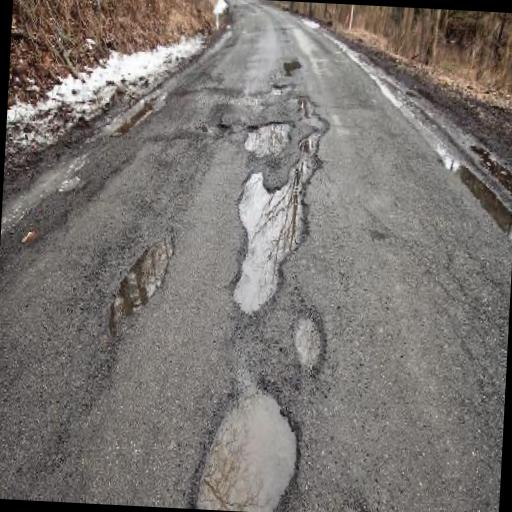pothole: (190, 378, 307, 512), (230, 168, 314, 317), (106, 224, 178, 338), (292, 88, 330, 176), (290, 308, 328, 376), (242, 115, 294, 159), (267, 79, 295, 97)
